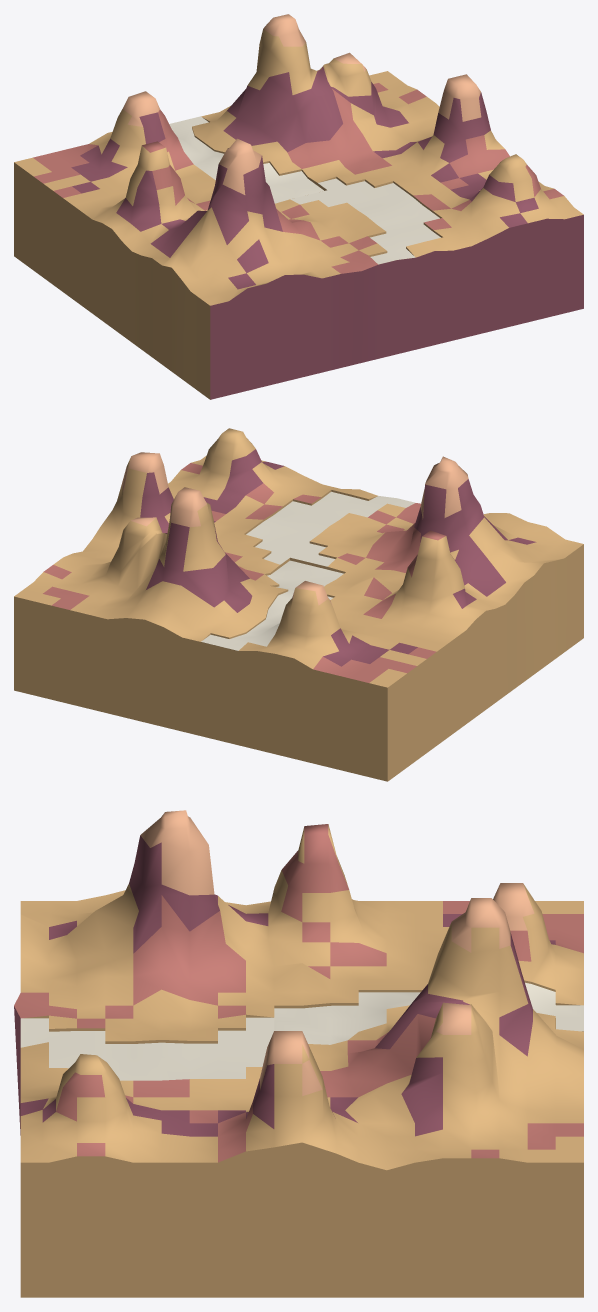
Rendered from LevelMenu2.fbx.
3 renders of one model, top to bottom at view 1: azimuth 30°, elevation 25°; view 2: azimuth 150°, elevation 25°; view 3: azimuth 270°, elevation 25°, orthographic. The views are drawn at different scales.
Visible parts, largest first — view 1: Box080; view 2: Box080; view 3: Box080.
Part boxes in pixels (box(x1,y1,x2,y2)): Box080: box(14, 14, 583, 399); Box080: box(14, 428, 583, 781); Box080: box(14, 810, 583, 1297).
Size of the model in its own units: 291 by 159 by 268.
Materials: 5 (5 with a texture image).
